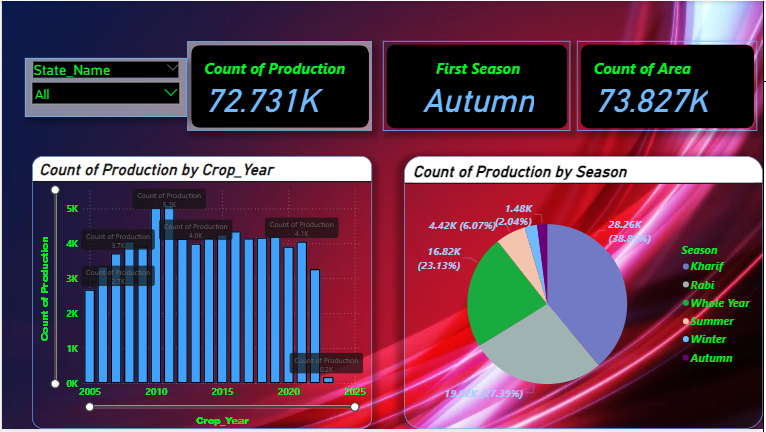

What the dashboard file says about the page in this screenshot:
{"tool":"powerbi","page":{"name":"Page 1","canvas":[1280,720],"ordinal":0},"visuals":[{"type":"lineClusteredColumnComboChart","fields":{"Category":["Power BI enabled Crop Production Analysis (Data Analytics with Power BI).Crop_Year"],"Y":["CountNonNull(Power BI enabled Crop Production Analysis (Data Analytics with Power BI).Production)"]},"box":[50.5,260.7,571.9,459.2],"z":0},{"type":"pieChart","fields":{"Category":["Power BI enabled Crop Production Analysis (Data Analytics with Power BI).Season"],"Y":["CountNonNull(Power BI enabled Crop Production Analysis (Data Analytics with Power BI).Production)"]},"box":[676.2,260.7,603.8,459.2],"z":1000},{"type":"cardVisual","fields":{"Data":["CountNonNull(Power BI enabled Crop Production Analysis (Data Analytics with Power BI).Area)"]},"box":[967.1,67.3,302.8,151.4],"z":2000},{"type":"cardVisual","fields":{"Data":["CountNonNull(Power BI enabled Crop Production Analysis (Data Analytics with Power BI).Production)"]},"box":[311.2,67.3,311.2,151.4],"z":3000},{"type":"cardVisual","fields":{"Data":["Min(Power BI enabled Crop Production Analysis (Data Analytics with Power BI).Season)"]},"box":[640.8,67.3,314.5,151.4],"z":4000},{"type":"slicer","fields":{"Values":["Power BI enabled Crop Production Analysis (Data Analytics with Power BI).State_Name"]},"box":[38.7,95.9,272.5,99.2],"z":5000}]}

Visuals, with their boxes in screenshot pixels (x1, y1, x2, y2), scaled from the page's 1280x720 canvas onto the 766x432 screenshot:
lineClusteredColumnComboChart - Power BI enabled Crop Production Analysis (Data Analytics with Power BI).Crop_Year x CountNonNull(Power BI enabled Crop Production Analysis (Data Analytics with Power BI).Production): l=30, t=156, r=372, b=431
pieChart - Power BI enabled Crop Production Analysis (Data Analytics with Power BI).Season x CountNonNull(Power BI enabled Crop Production Analysis (Data Analytics with Power BI).Production): l=405, t=156, r=765, b=431
cardVisual - CountNonNull(Power BI enabled Crop Production Analysis (Data Analytics with Power BI).Area): l=579, t=40, r=760, b=131
cardVisual - CountNonNull(Power BI enabled Crop Production Analysis (Data Analytics with Power BI).Production): l=186, t=40, r=372, b=131
cardVisual - Min(Power BI enabled Crop Production Analysis (Data Analytics with Power BI).Season): l=383, t=40, r=572, b=131
slicer - Power BI enabled Crop Production Analysis (Data Analytics with Power BI).State_Name: l=23, t=58, r=186, b=117
